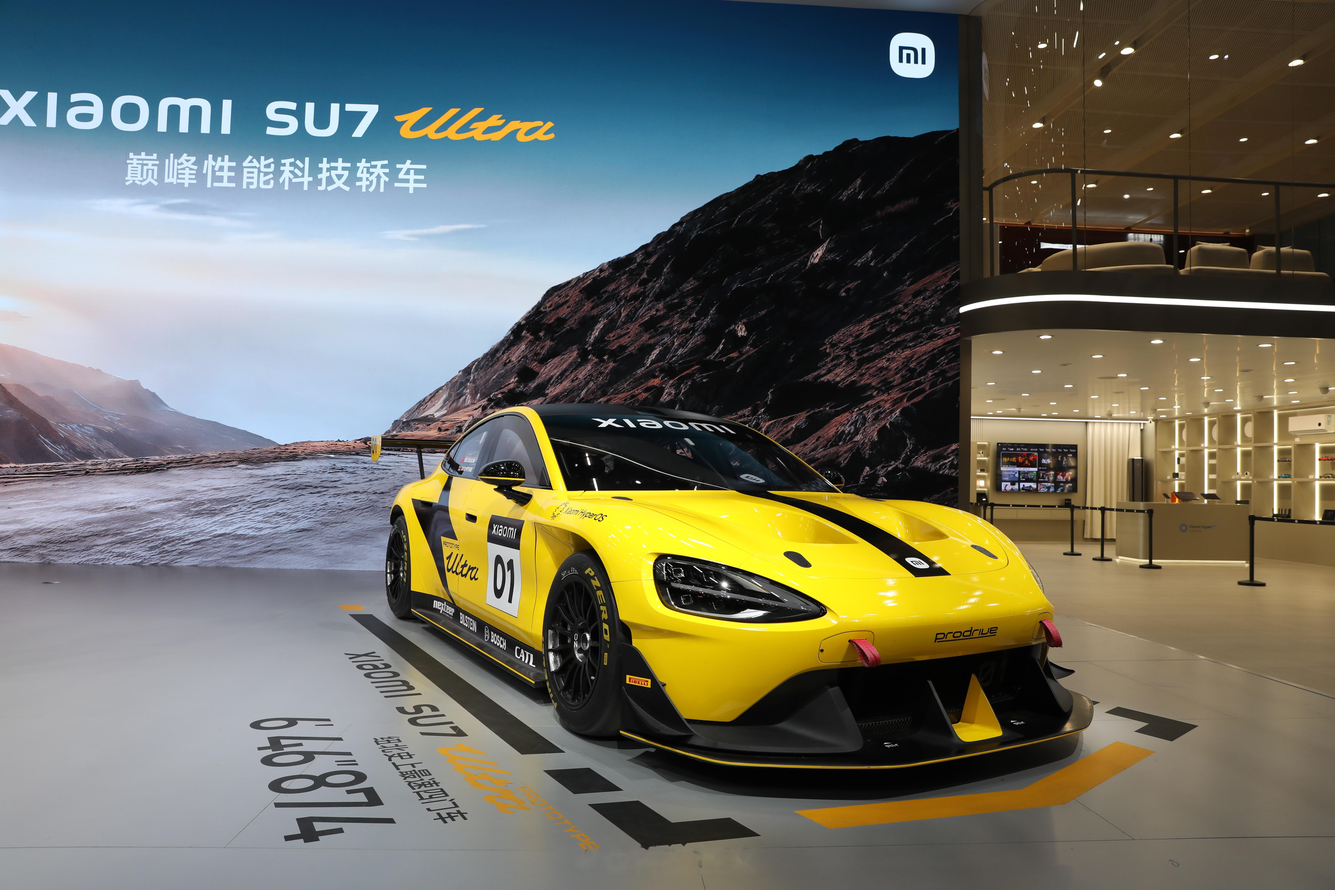su7: (364, 398, 1096, 782)
